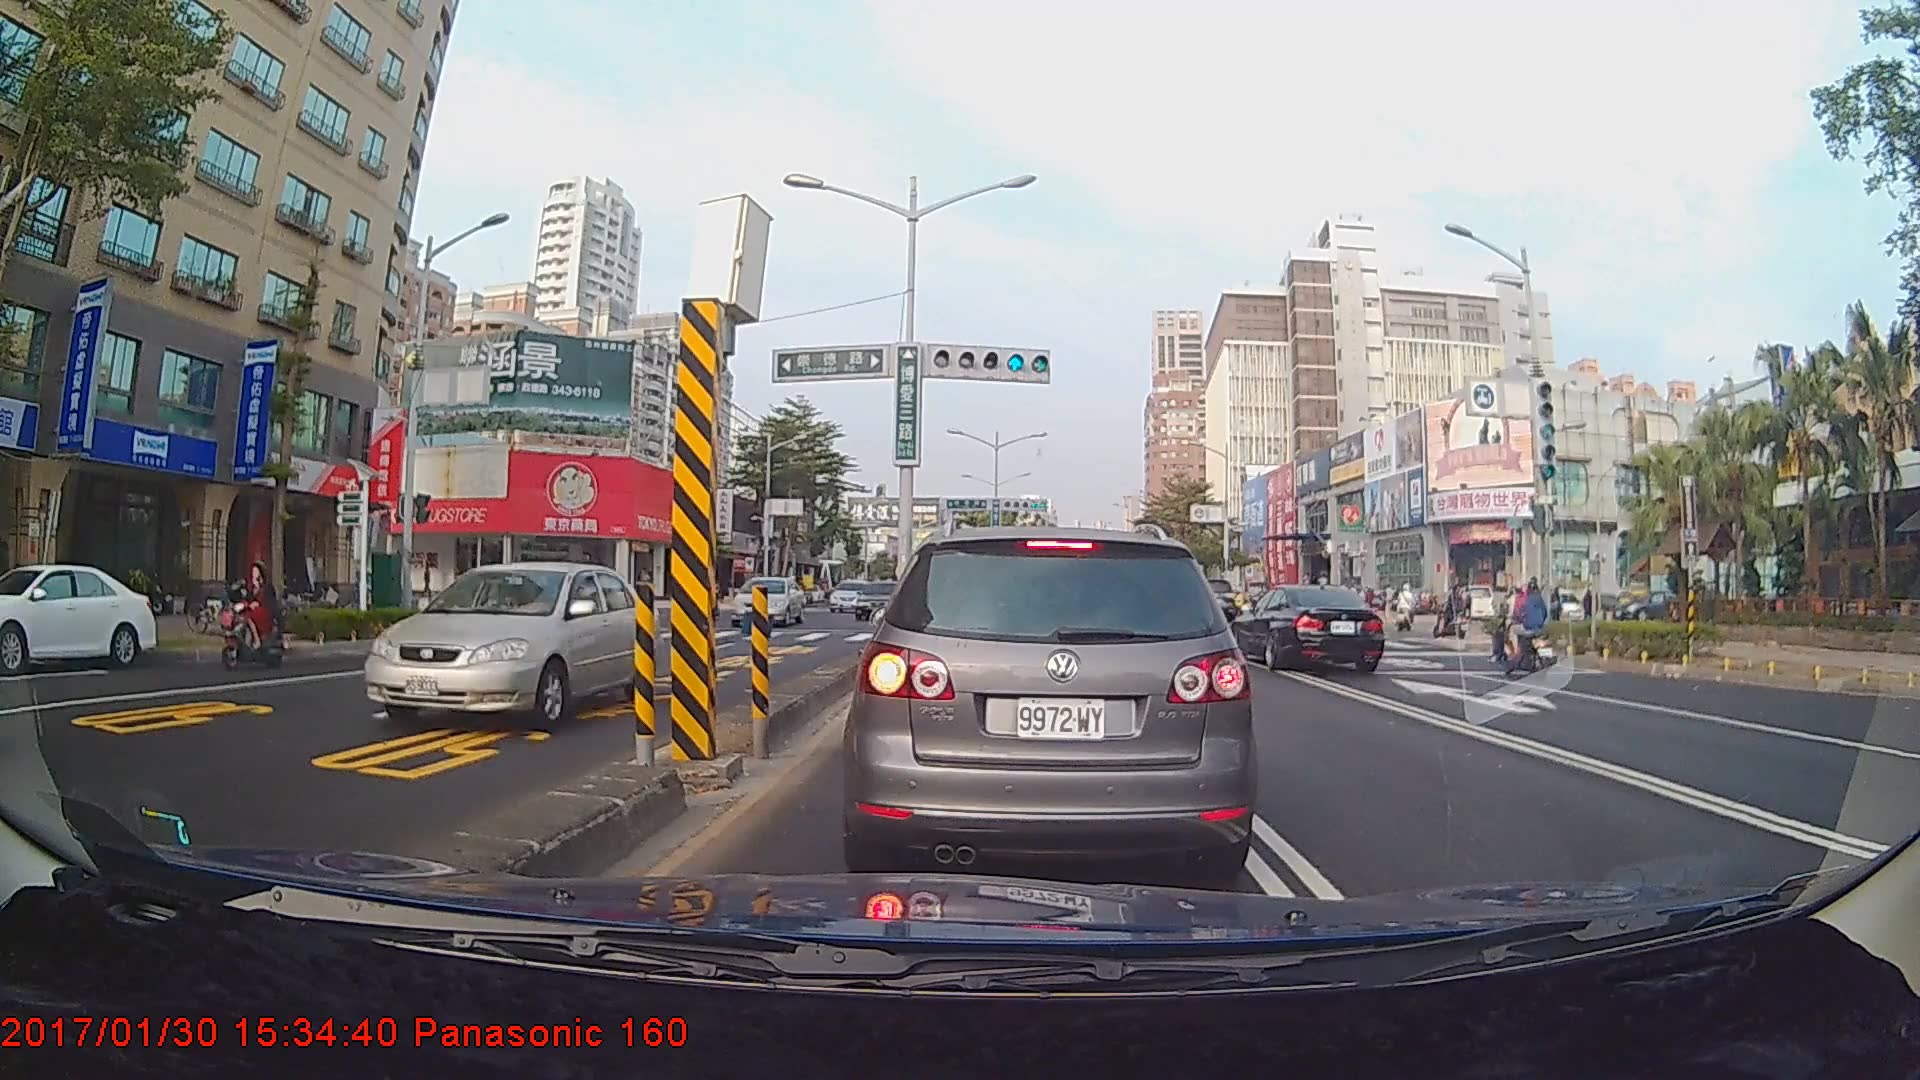rider: (209, 563, 291, 668), (1497, 580, 1565, 681), (1485, 582, 1548, 668), (1436, 582, 1473, 646)
vehicle: (855, 520, 1252, 880), (359, 560, 666, 732), (0, 561, 157, 671), (1226, 582, 1386, 678), (736, 574, 802, 627), (852, 579, 910, 620), (1191, 578, 1236, 622)
